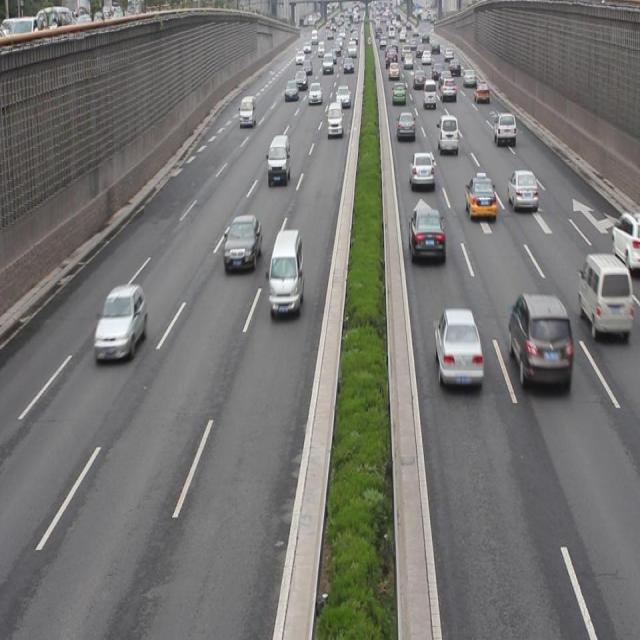car: (508, 293, 571, 393), (92, 286, 147, 365), (434, 308, 482, 390), (222, 214, 262, 274), (408, 207, 444, 265), (464, 173, 496, 220), (506, 169, 536, 211), (408, 152, 434, 192), (493, 112, 515, 148), (396, 112, 414, 139)
truck: (577, 254, 630, 341), (267, 228, 303, 315), (266, 134, 290, 186), (437, 113, 457, 156), (326, 101, 341, 137), (238, 96, 255, 127)
